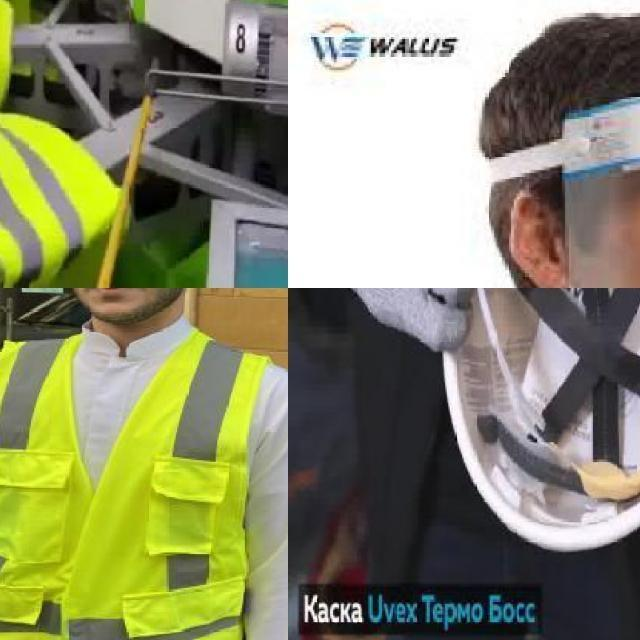apron: (341, 288, 507, 354)
